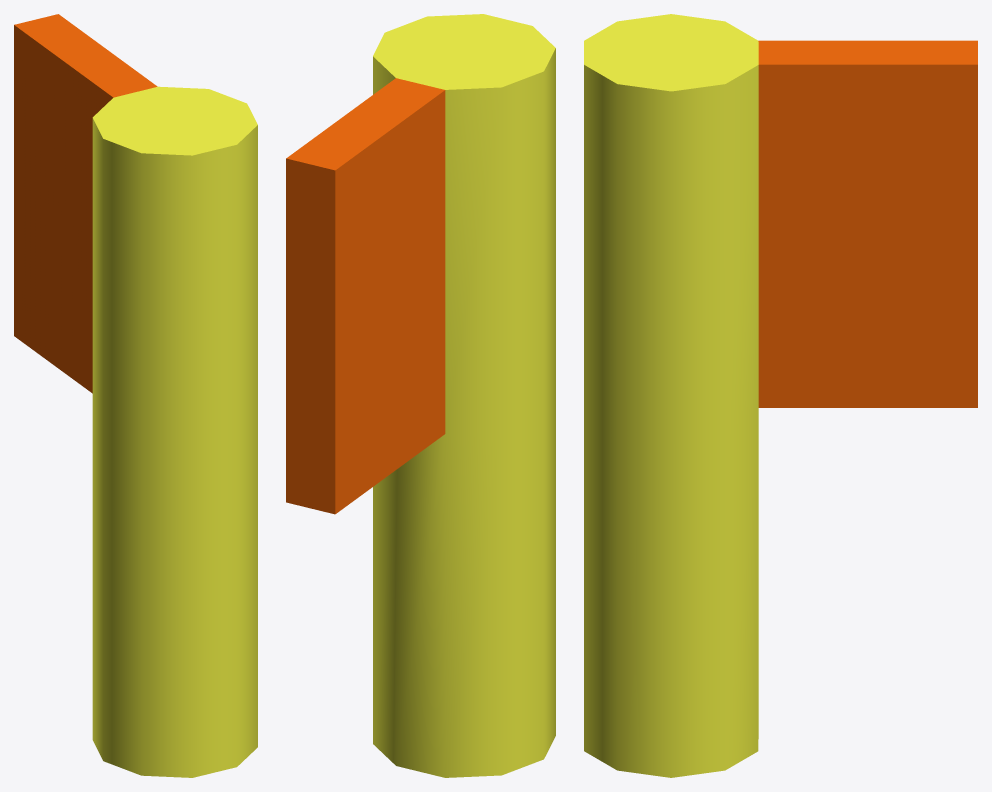
The model's file is YellowFlag.FBX.
3 views of the same model, side by side, from view 1: azimuth 30°, elevation 25°; view 2: azimuth 150°, elevation 25°; view 3: azimuth 270°, elevation 25° (orthographic). The views are drawn at different scales.
Parts seen in each view (by area): view 1: Cylinder001; view 2: Cylinder001; view 3: Cylinder001.
Part boxes in pixels (<box>): Cylinder001: <box>14,14,257,777</box>; Cylinder001: <box>286,14,555,777</box>; Cylinder001: <box>584,14,977,777</box>.
Size of the model in its own units: 1.67 by 6.9 by 3.59.
